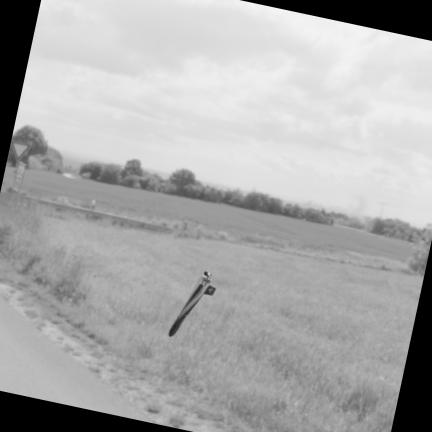Shahed: (169, 272, 215, 336)
